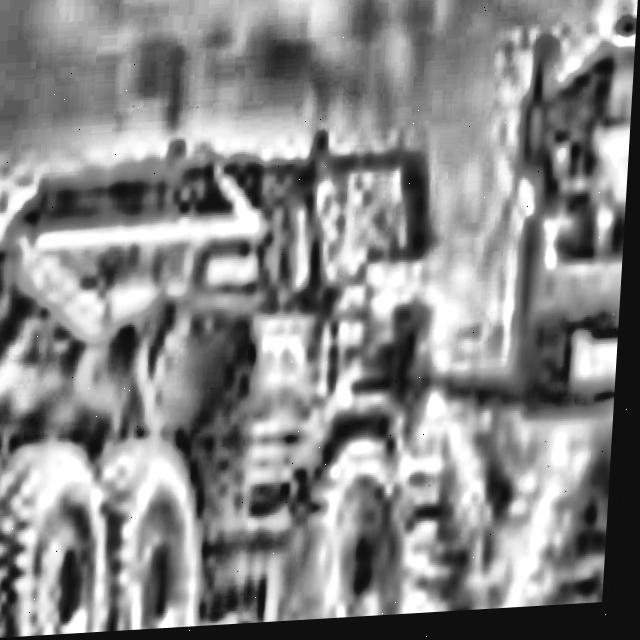dump_truck: (0, 109, 466, 639), (500, 0, 640, 441)
